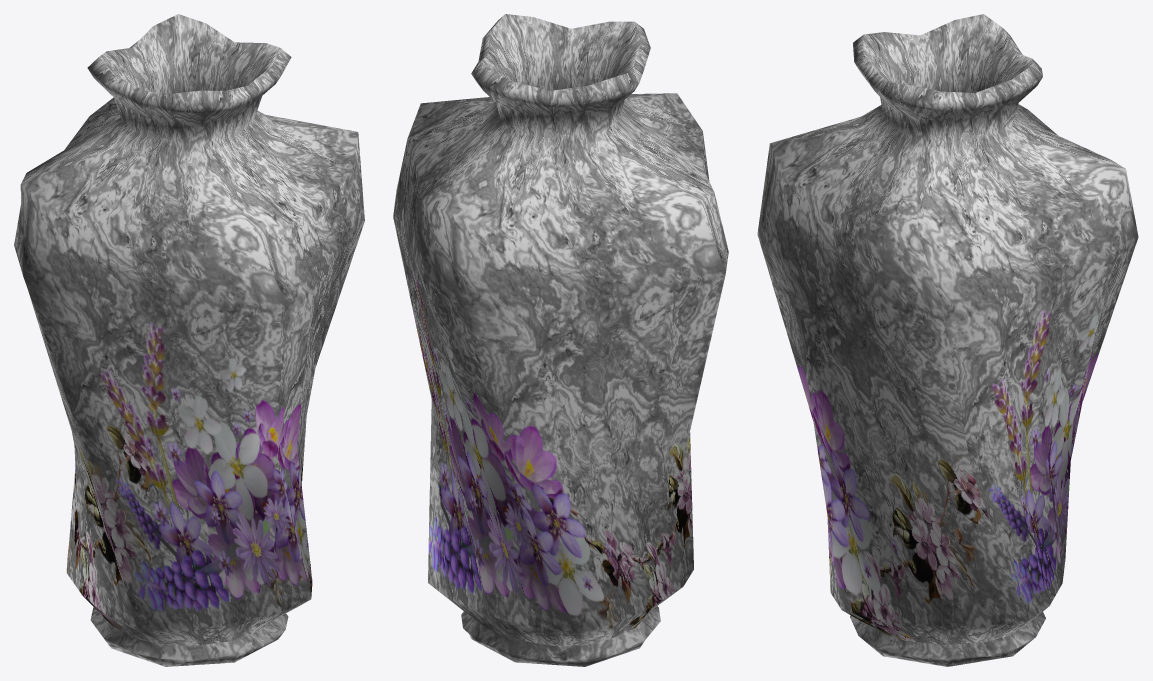
File: JVase_45.fbx
The picture shows the model from 3 angles, left to right: view 1: azimuth 30°, elevation 25°; view 2: azimuth 150°, elevation 25°; view 3: azimuth 270°, elevation 25°; orthographic projection.
Parts seen in each view (by area): view 1: JVase_45; view 2: JVase_45; view 3: JVase_45.
Boxes of the visible parts, x1=… form: JVase_45: x1=14, y1=14, x2=364, y2=666; JVase_45: x1=393, y1=14, x2=728, y2=666; JVase_45: x1=757, y1=14, x2=1138, y2=666.
Bounding box in the file's own units: 52.59 × 88.19 × 52.6.
